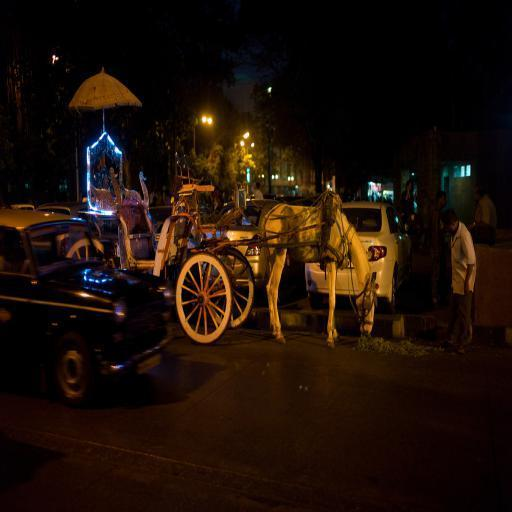horse: (260, 204, 378, 352)
